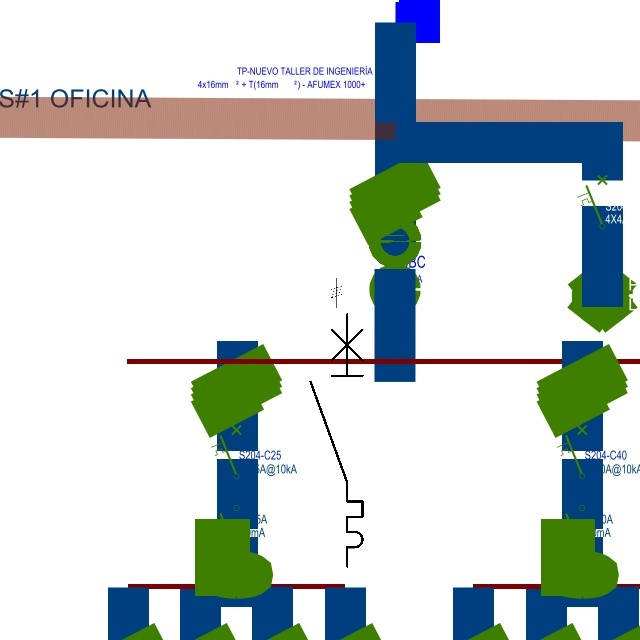interruptor_termomagnetico: (304, 307, 369, 572)
